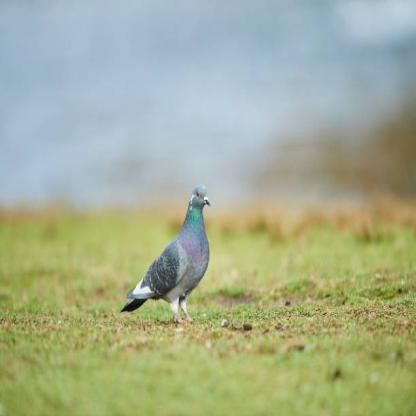Rock Pigeon: (121, 180, 219, 325)
